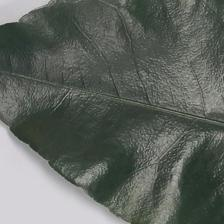healthy: (1, 3, 224, 190)
